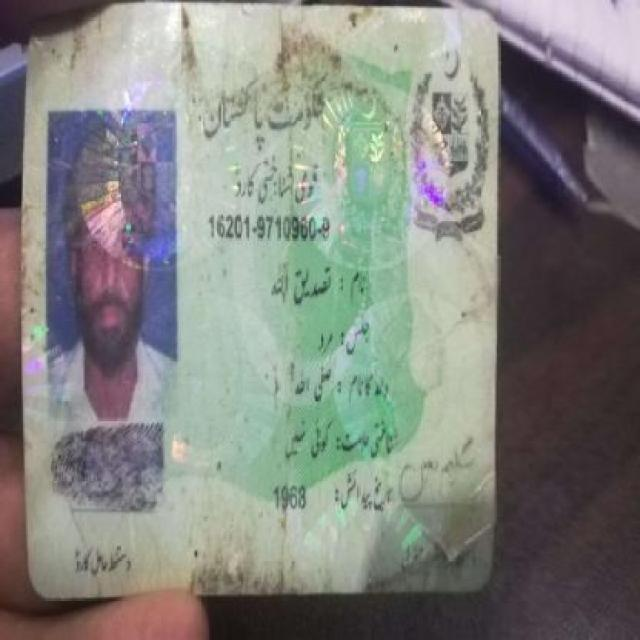Front: (23, 11, 508, 598)
